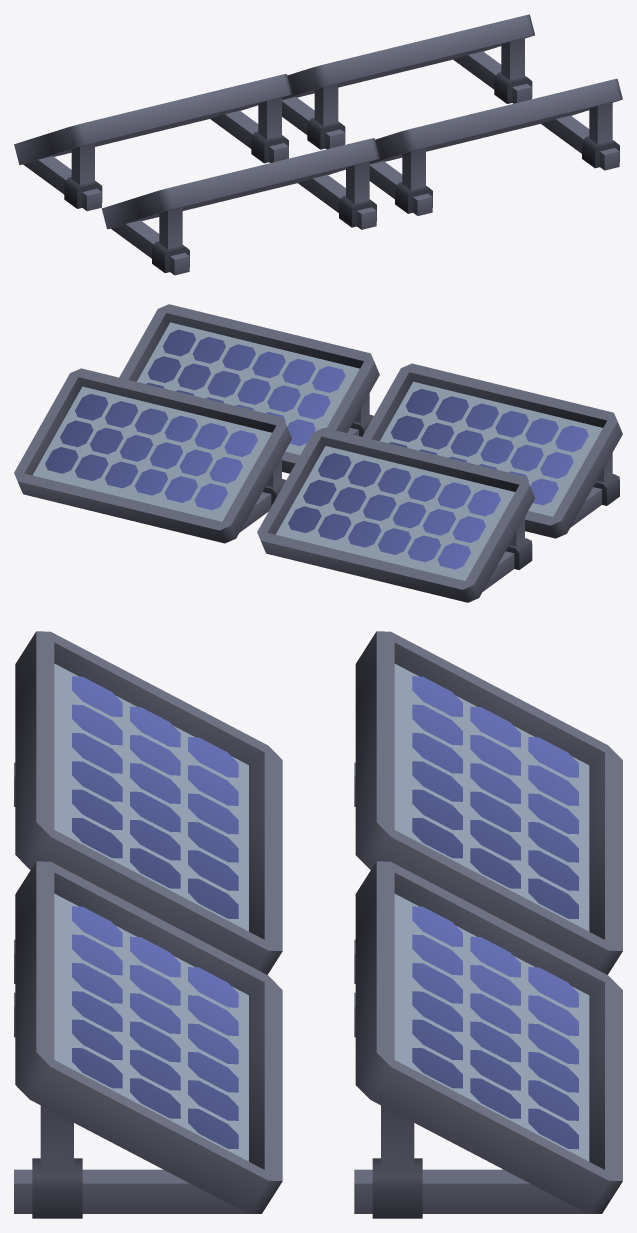
Rendered from industrial-solar-panel-landscape-group.glb.
3 renders of one model, top to bottom at view 1: azimuth 30°, elevation 25°; view 2: azimuth 150°, elevation 25°; view 3: azimuth 270°, elevation 25°, orthographic. The views are drawn at different scales.
Visible parts, largest first — view 1: solar-panel-landscape-group; view 2: solar-panel-landscape-group; view 3: solar-panel-landscape-group.
Boxes of the visible parts, box(x1,y1,x2,y2) form: solar-panel-landscape-group: box(14, 14, 622, 275); solar-panel-landscape-group: box(14, 304, 622, 602); solar-panel-landscape-group: box(14, 631, 622, 1218).
Bounding box in the file's own units: 1.51 × 0.2624 × 0.8951.
